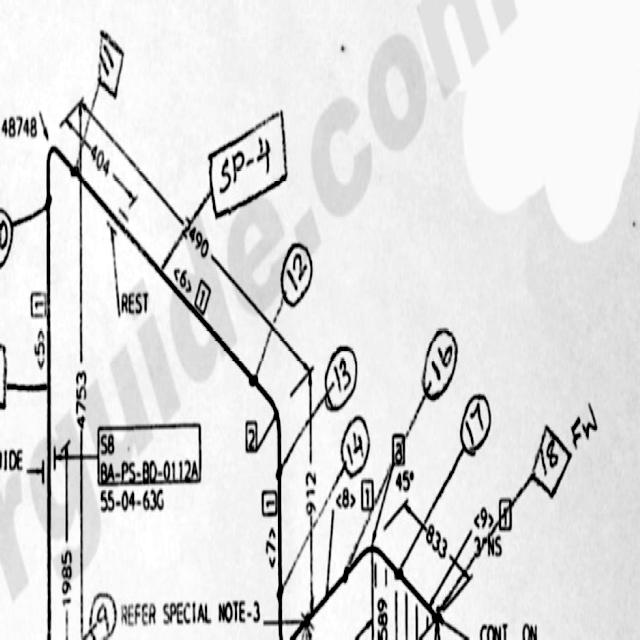Item number: (96, 417, 204, 488), (190, 277, 212, 315), (497, 495, 515, 533), (244, 417, 260, 456), (30, 288, 46, 320), (261, 487, 277, 518), (392, 431, 405, 466)
Measrement: (75, 99, 312, 370), (65, 108, 142, 207), (401, 493, 472, 581), (301, 355, 318, 634), (471, 496, 507, 564), (1, 108, 49, 147), (60, 509, 73, 639), (333, 480, 373, 516), (392, 463, 415, 498)
Pipeline: (33, 142, 458, 639), (284, 531, 451, 639)
Symbol: (342, 540, 406, 594), (41, 138, 82, 195), (272, 593, 316, 639)
Weld number: (529, 408, 577, 505), (93, 17, 128, 105), (423, 322, 460, 405), (279, 237, 315, 311), (323, 342, 358, 413), (459, 388, 493, 458), (338, 413, 372, 479), (89, 590, 117, 638), (1, 203, 16, 274)
other: (123, 596, 269, 634), (1, 107, 50, 148), (98, 486, 167, 514), (1, 443, 44, 482), (116, 284, 151, 324)
